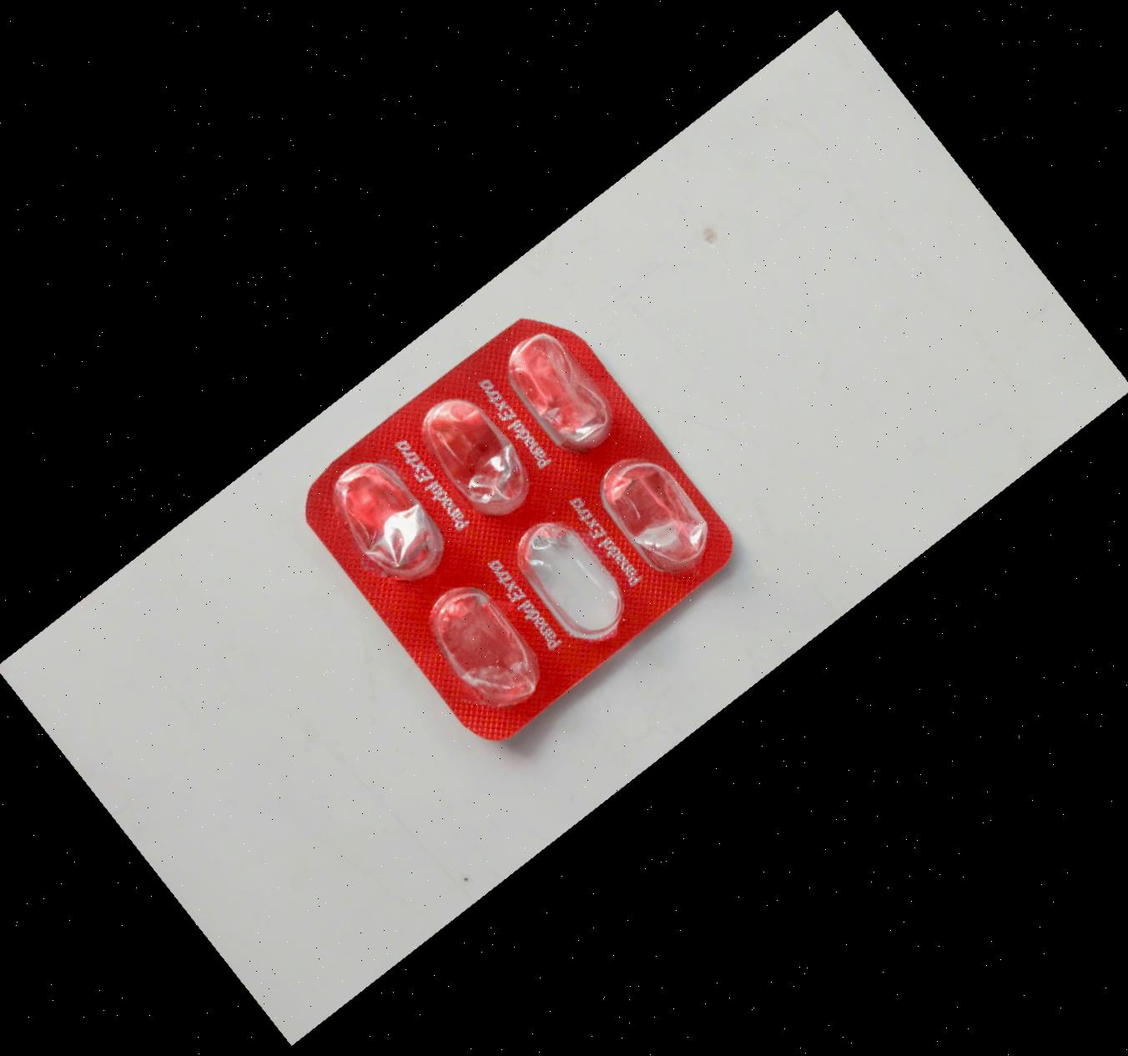Empty: (407, 564, 566, 732), (394, 373, 553, 541), (493, 500, 652, 667), (579, 435, 737, 603), (310, 440, 468, 607), (484, 307, 642, 474)
